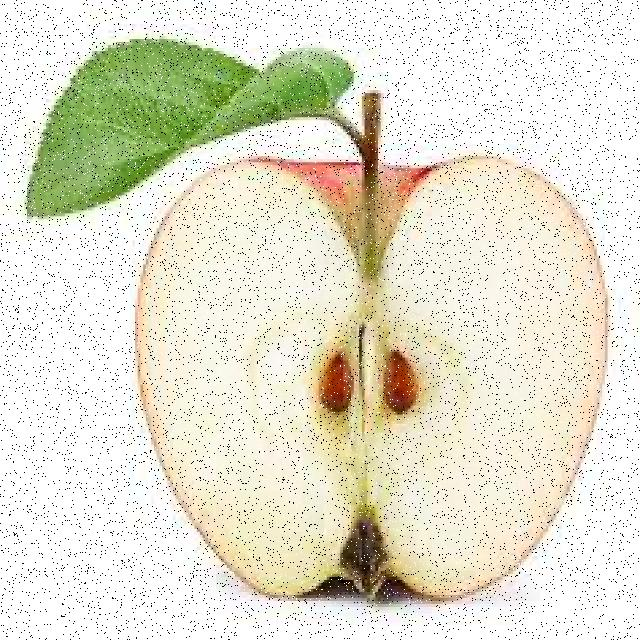Apple: (139, 139, 609, 603)
